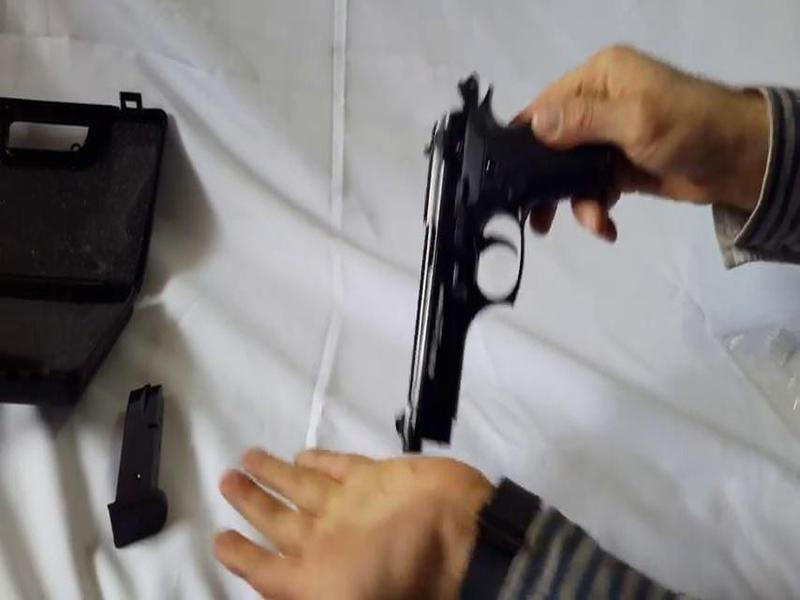Pistola: (377, 86, 652, 441)
